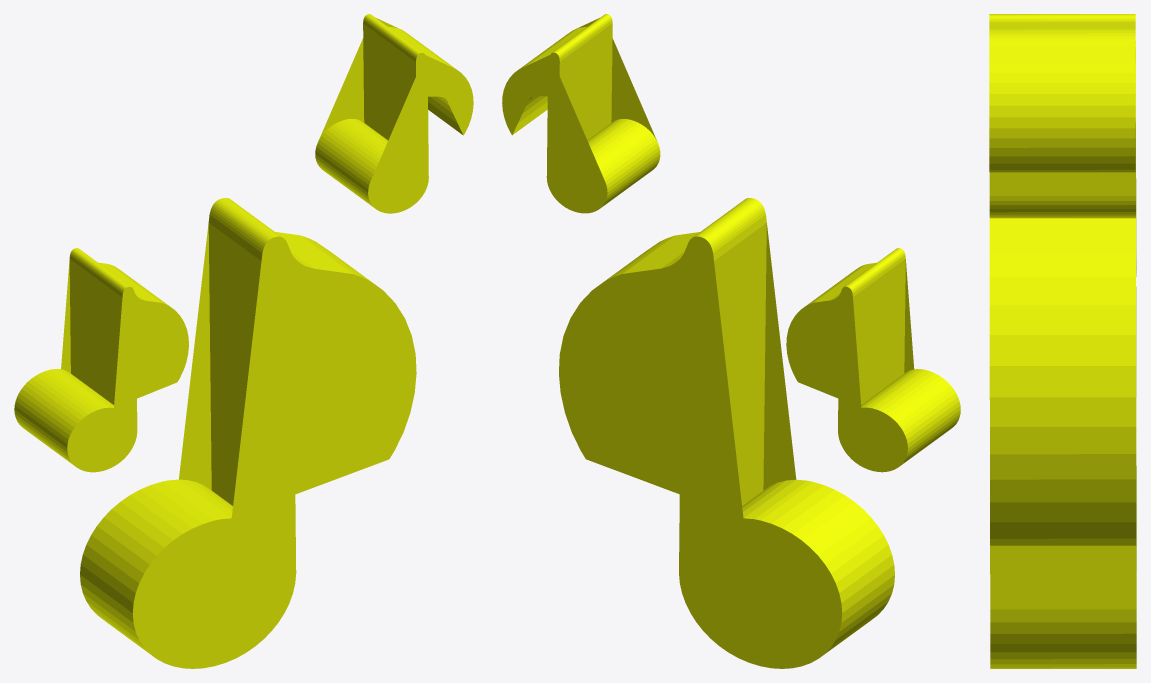
Rendered from note.fbx.
The picture shows the model from 3 angles, left to right: view 1: azimuth 30°, elevation 25°; view 2: azimuth 150°, elevation 25°; view 3: azimuth 270°, elevation 25°; orthographic projection. The views are drawn at different scales.
Visible parts, largest first — view 1: Curve.002; view 2: Curve.002; view 3: Curve.002.
Boxes of the visible parts, left/top/right/bottom form: Curve.002: left=14, top=14, right=473, bottom=668; Curve.002: left=502, top=14, right=960, bottom=668; Curve.002: left=989, top=14, right=1136, bottom=668.
Size of the model in its own units: 222 by 294 by 50.35.
